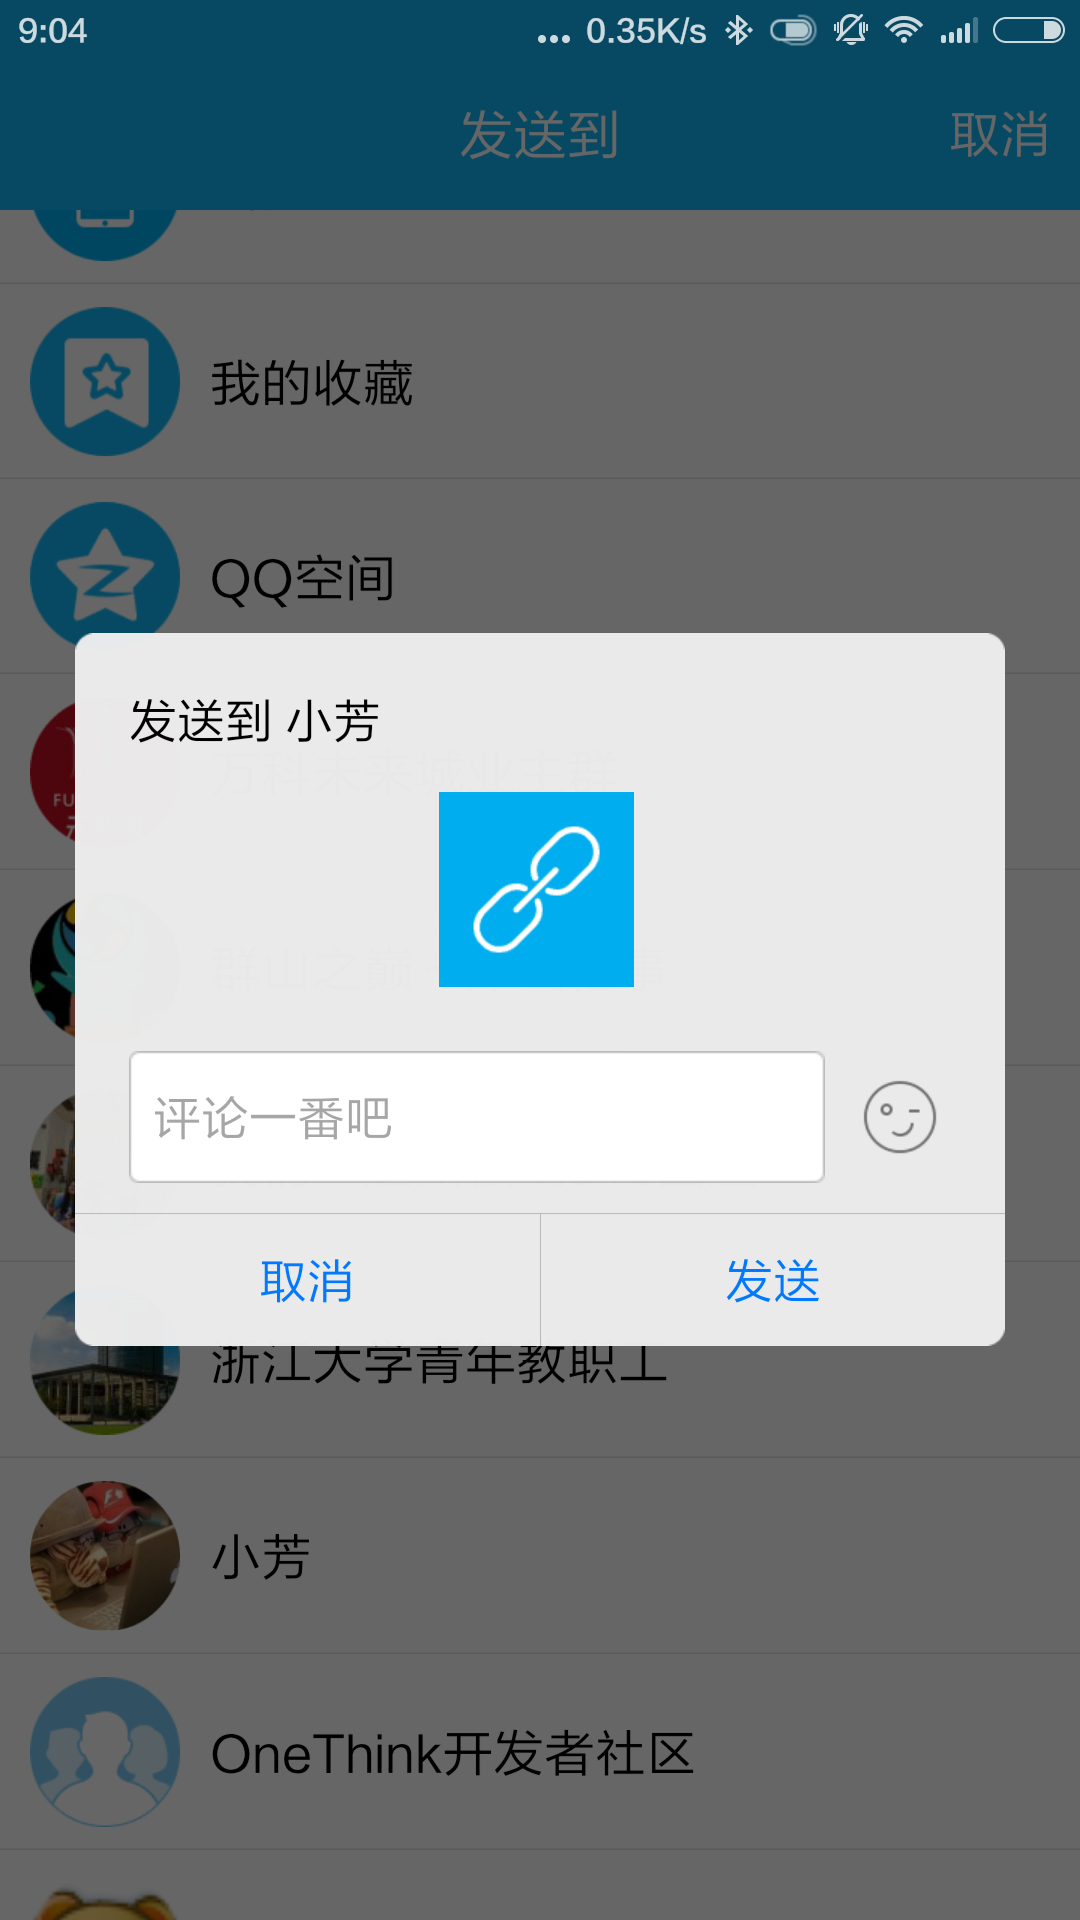alert: (73, 625, 1010, 1356)
button: (71, 1207, 555, 1361), (527, 1204, 1007, 1346)
imgbutton: (855, 1068, 951, 1156)
textview: (117, 1043, 839, 1197), (109, 680, 410, 765)
